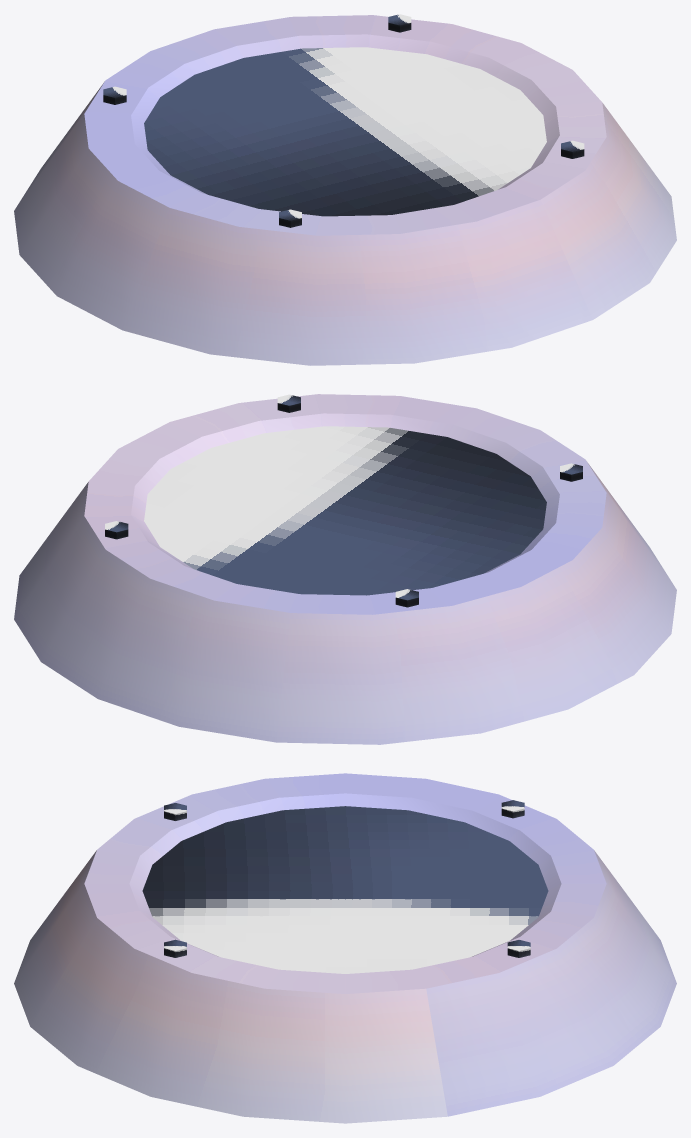
Rendered from transporter.obj.
The picture shows the model from 3 angles, top to bottom: view 1: azimuth 30°, elevation 25°; view 2: azimuth 150°, elevation 25°; view 3: azimuth 270°, elevation 25°; orthographic projection.
Parts seen in each view (by area): view 1: polySurface4, polySurface3 pCylinder1; view 2: polySurface4, polySurface3 pCylinder1; view 3: polySurface4, polySurface3 pCylinder1.
Part boxes in pixels (bbox=[...]): polySurface4: bbox=[14, 15, 676, 365]; polySurface3 pCylinder1: bbox=[144, 47, 546, 216]; polySurface4: bbox=[14, 394, 676, 744]; polySurface3 pCylinder1: bbox=[144, 426, 546, 595]; polySurface4: bbox=[14, 773, 676, 1123]; polySurface3 pCylinder1: bbox=[142, 806, 548, 973].
Bounding box in the file's own units: 70.76 × 12.59 × 70.76.
